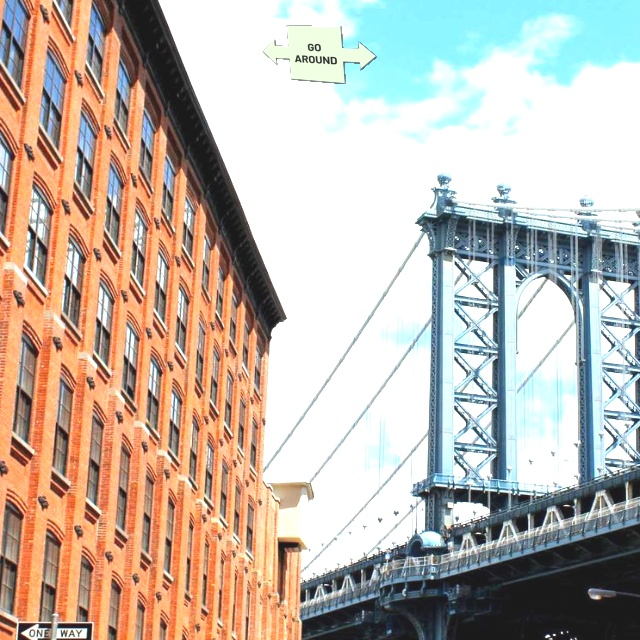GO_AROUND: (262, 25, 377, 84)
